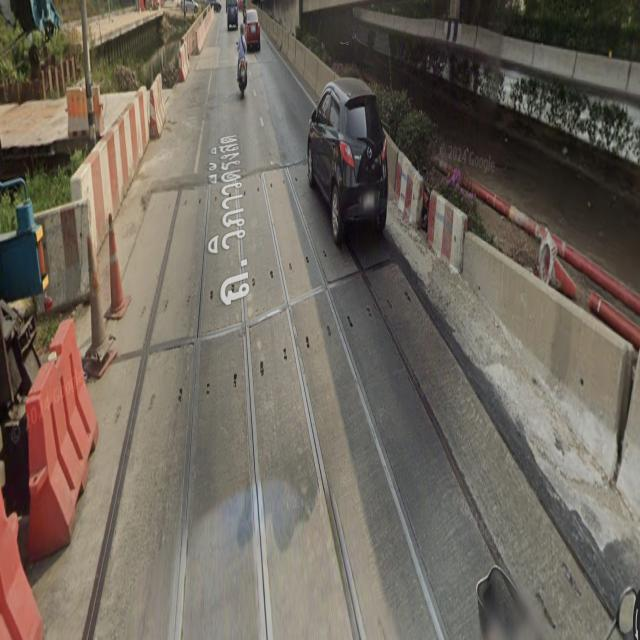fallen_object: (0, 326, 123, 555), (55, 73, 166, 231), (0, 159, 102, 295), (65, 209, 133, 361), (0, 491, 60, 640), (386, 155, 462, 264)
